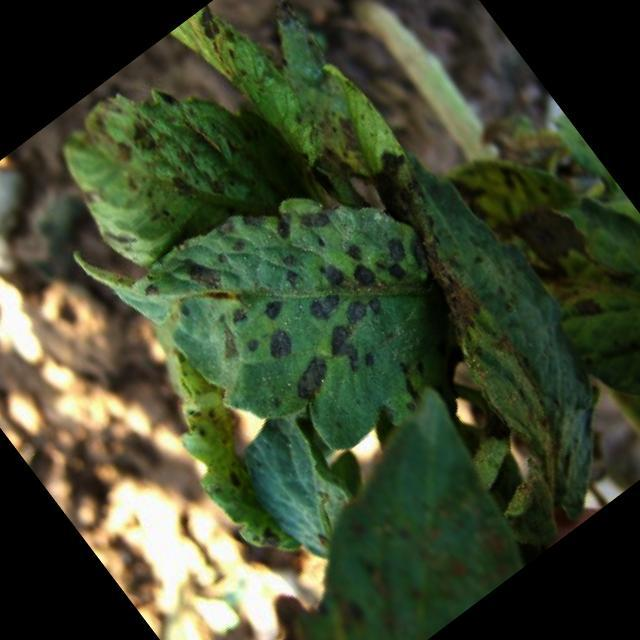Tomato bacterial spot leaf: (69, 72, 521, 526), (306, 128, 640, 537), (30, 22, 312, 300)
